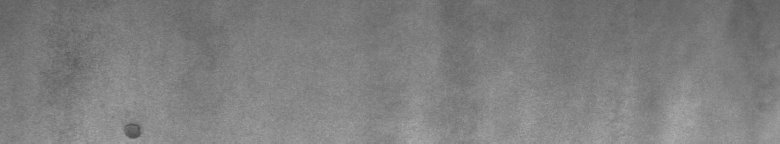fi: (120, 120, 144, 136)
